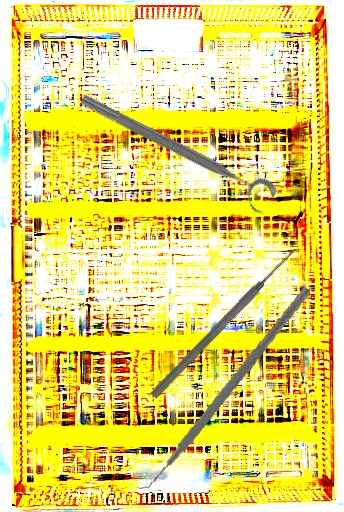Chopper: (126, 269, 311, 507)
Fixation Ring: (71, 88, 280, 218)
Pusher: (148, 244, 301, 401)
